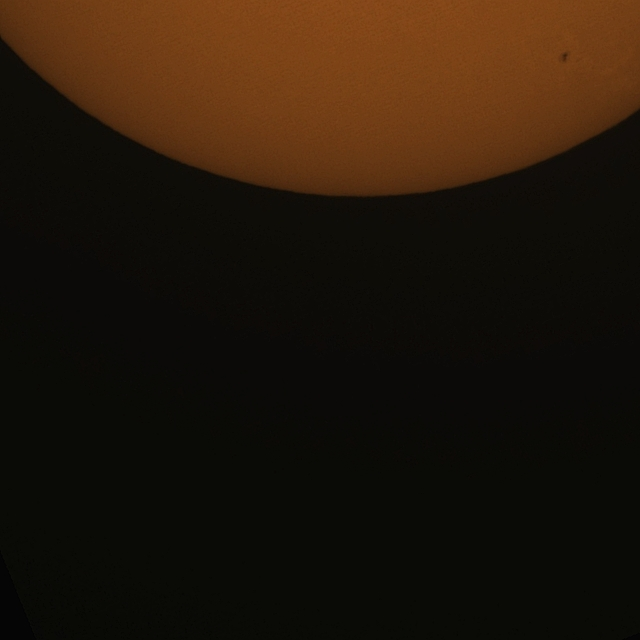sunspot: (559, 51, 569, 64)
